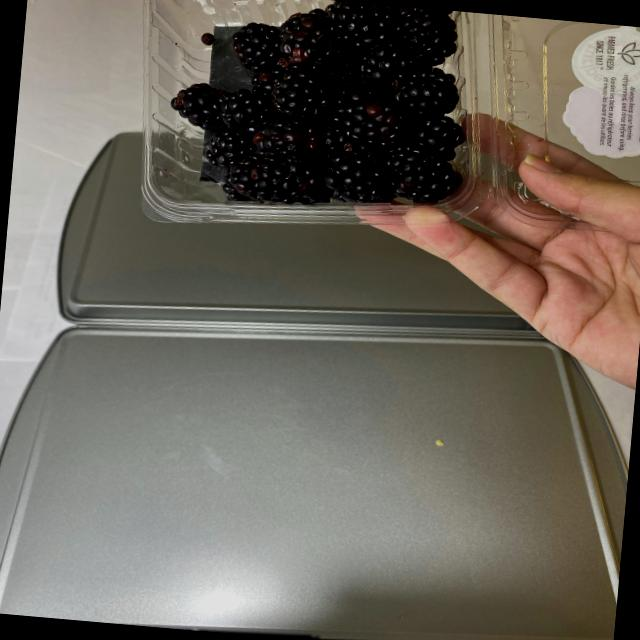blackberries: (129, 0, 486, 219)
